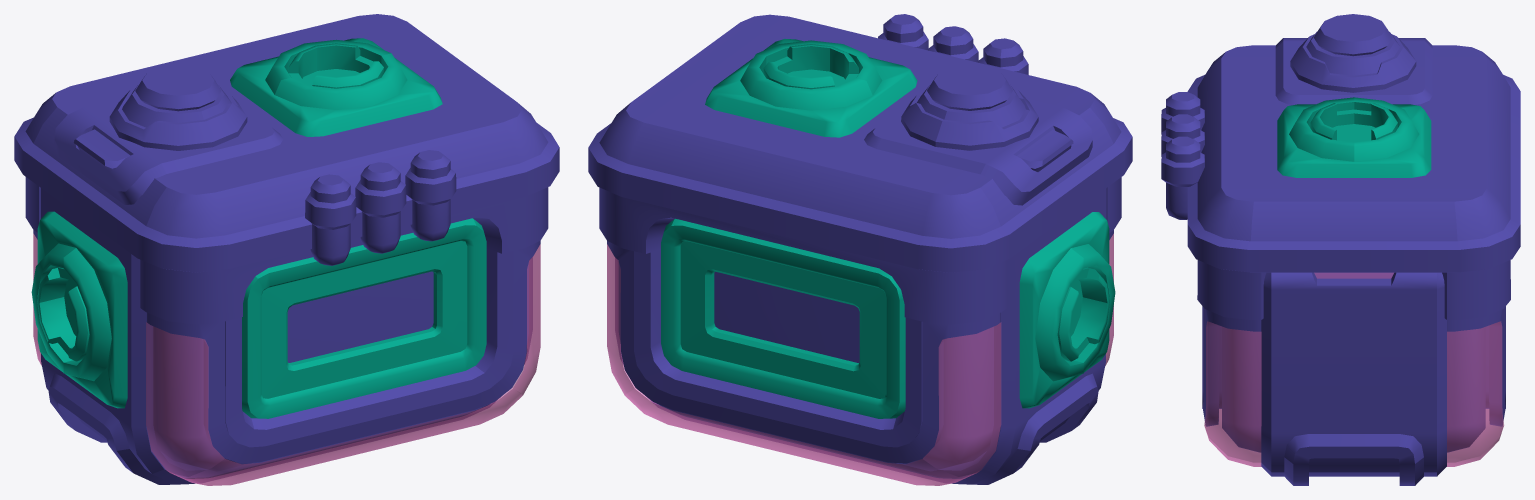
File: obj_containers_chemical.fbx
The picture shows the model from 3 angles, left to right: view 1: azimuth 30°, elevation 25°; view 2: azimuth 150°, elevation 25°; view 3: azimuth 270°, elevation 25°; orthographic projection. The views are drawn at different scales.
Visible parts, largest first — view 1: obj_container_chemical; view 2: obj_container_chemical; view 3: obj_container_chemical.
Boxes of the visible parts, bbox=[...] form: obj_container_chemical: bbox=[14, 14, 559, 485]; obj_container_chemical: bbox=[588, 14, 1132, 485]; obj_container_chemical: bbox=[1161, 14, 1520, 485].
Size of the model in its own units: 4.42 by 3.63 by 3.45.
